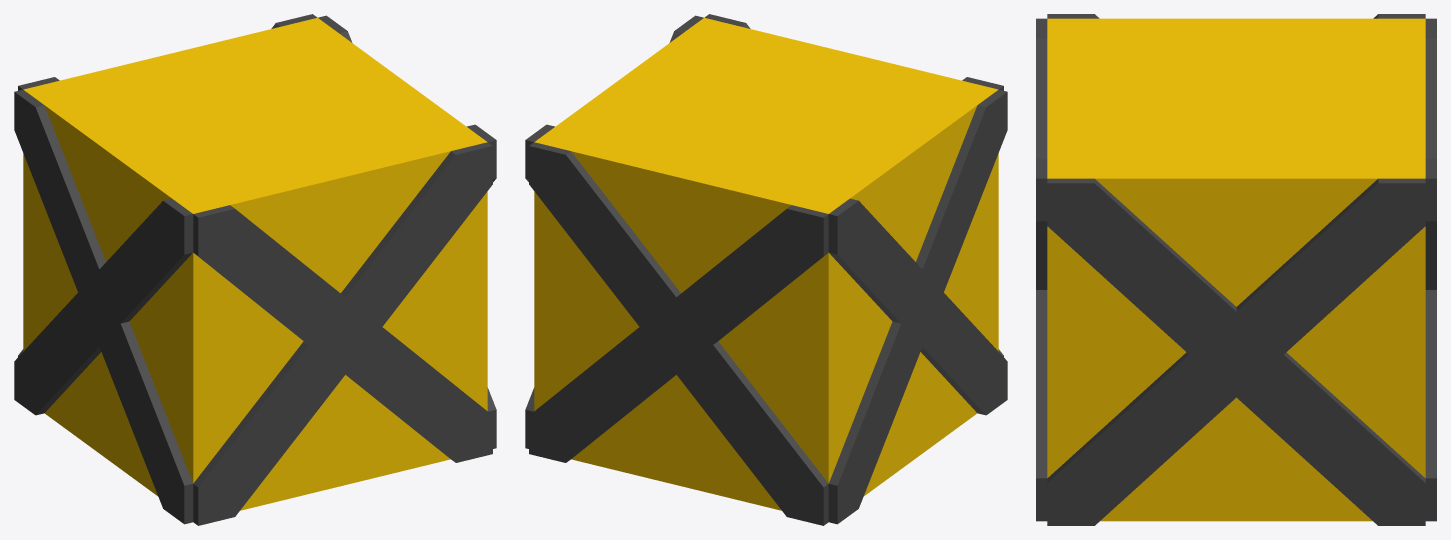
The model's file is xboxcomplete3.fbx.
The picture shows the model from 3 angles, left to right: view 1: azimuth 30°, elevation 25°; view 2: azimuth 150°, elevation 25°; view 3: azimuth 270°, elevation 25°; orthographic projection. The views are drawn at different scales.
Visible parts, largest first — view 1: Cube; view 2: Cube; view 3: Cube.
Part boxes in pixels (box(x1,y1,x2,y2)): Cube: box(14, 14, 496, 525); Cube: box(525, 14, 1007, 525); Cube: box(1036, 14, 1436, 525).
Bounding box in the file's own units: 106 × 100 × 106.
